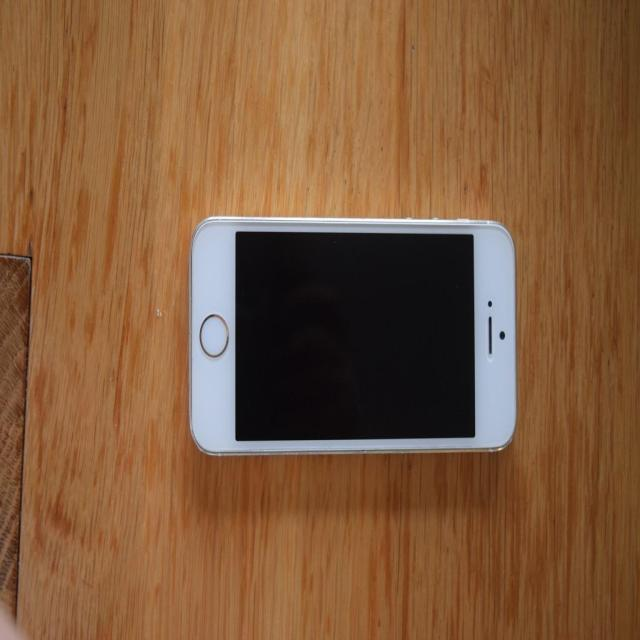Phone: (188, 217, 520, 459)
